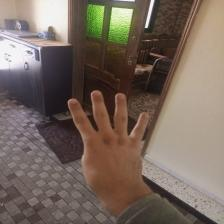four: (60, 88, 157, 194)
